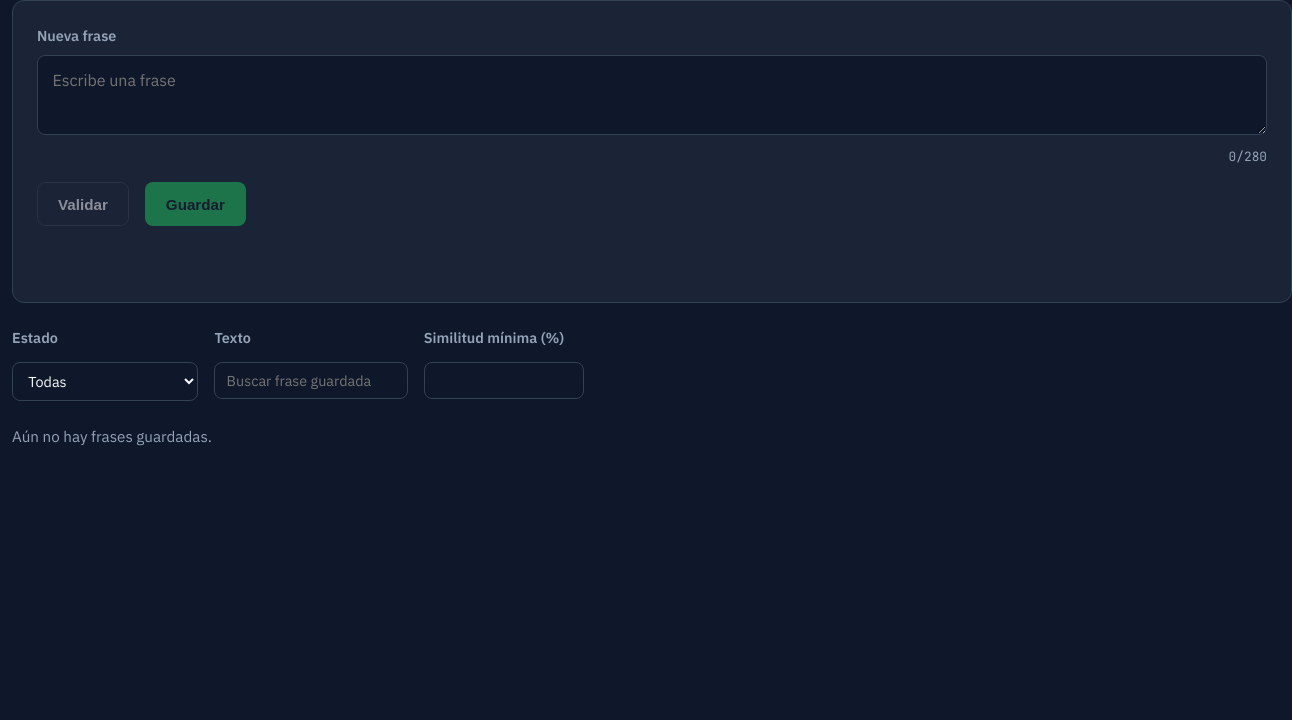
PhraseWorkspace › Refresh fails after a successful save: the machine stays idle, 'Frase guardada.' stays announced, and the list shows its own error (never the save error)
In the text box labelled "Nueva frase": {"x": 652, "y": 95} [37,55,1267,135], type "Comprar leche"
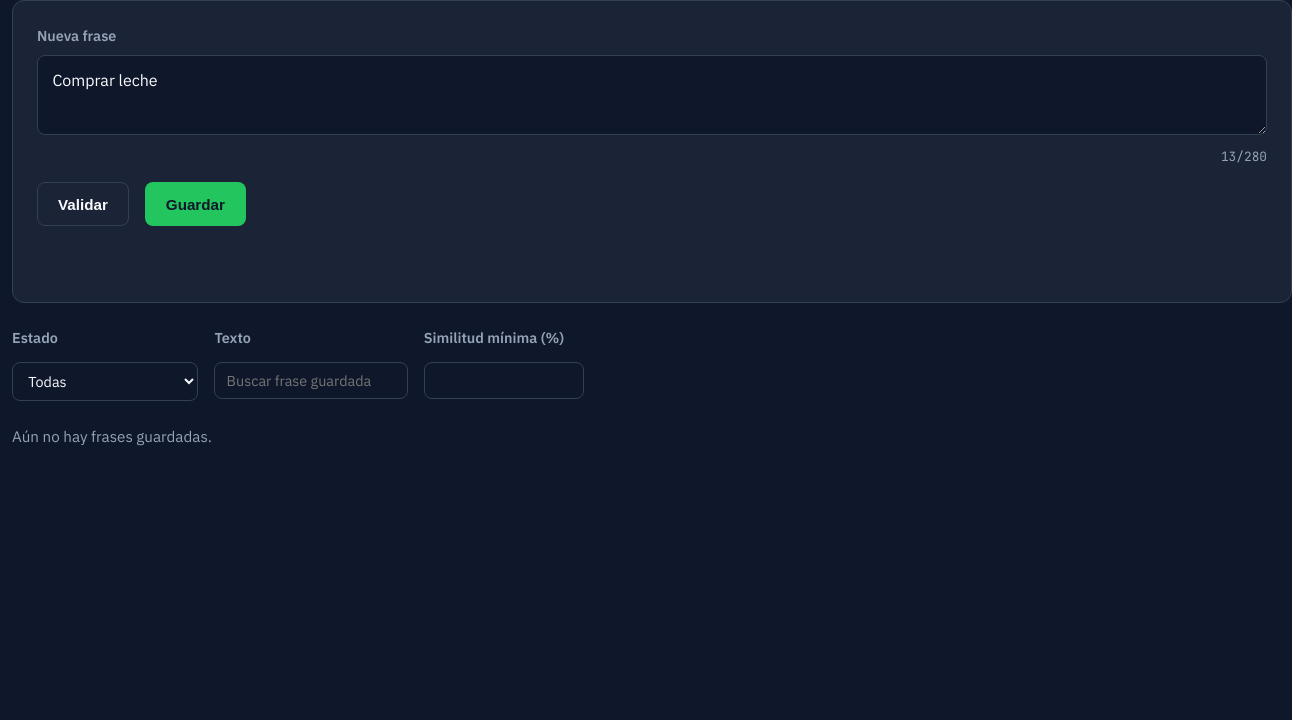
Click the button "Guardar": {"x": 195, "y": 204} [145,182,246,226]
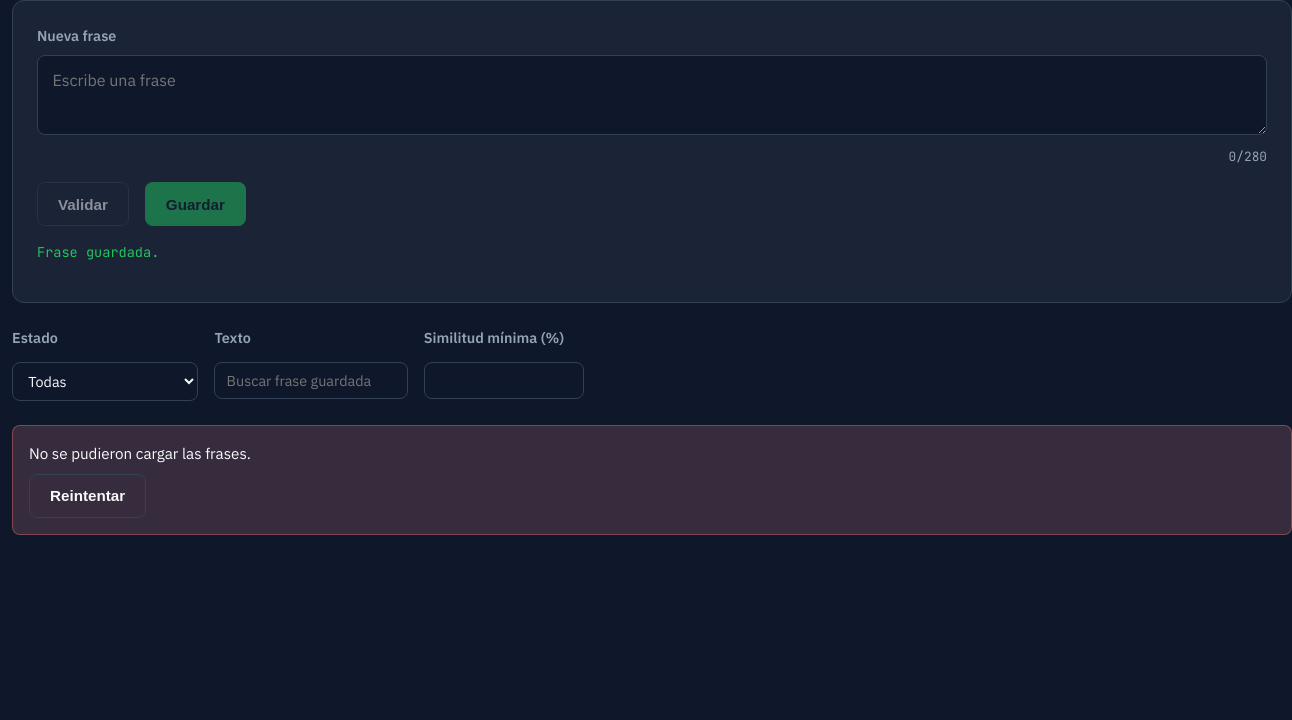
Check: the message reads "Frase guardada.", box [37,243,159,261]
Check: the text "No se pudieron cargar las frases." is shown, box [29,443,251,463]
Check: the text box labelled "Nueva frase" is empty, box [37,55,1267,135]
